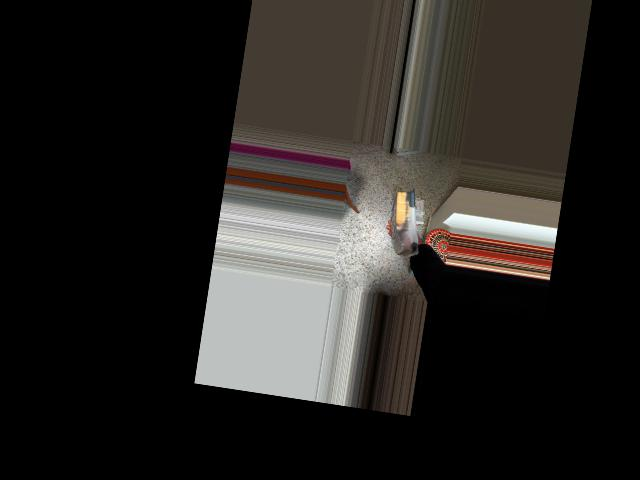cheese: (384, 188, 429, 261)
